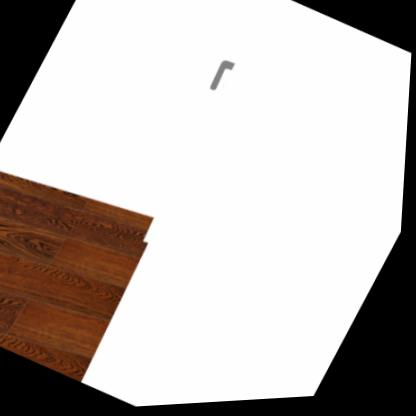Wooden floor: (0, 172, 156, 384)
